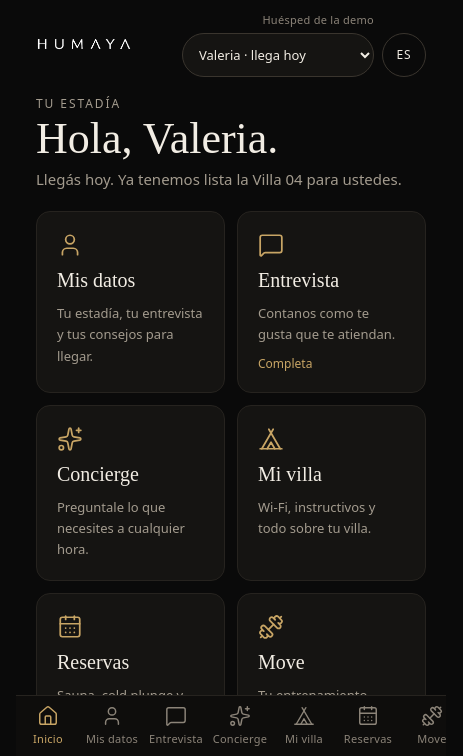
it: idioma de la app del huésped › usa la preferencia del huésped y recuerda una elección distinta para cada estadía
Expected: the heading "Hola, Valeria." is shown, left=36, top=114, right=278, bottom=163
Click the button with aria-label "Cambiar idioma a inglés" at (404, 54), box left=382, top=32, right=426, bottom=76
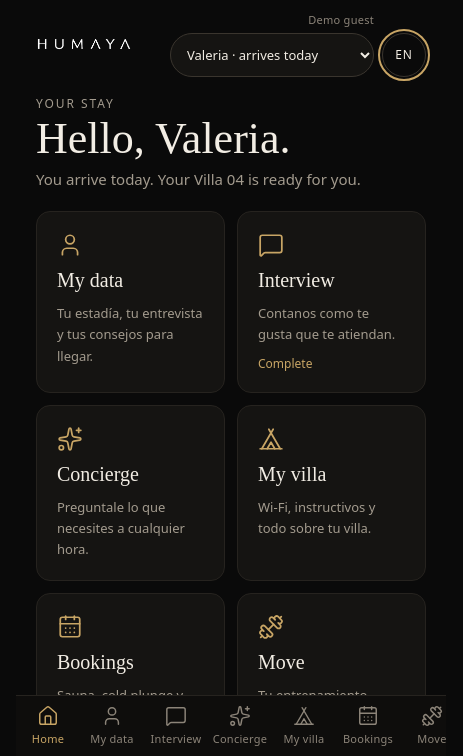
Expected: the heading "Hello, Valeria." is shown, left=36, top=114, right=290, bottom=163
Select "Hannah · arrives in 5 days" in the dropdown labelled "Demo guest" at (272, 54), box left=170, top=32, right=374, bottom=76
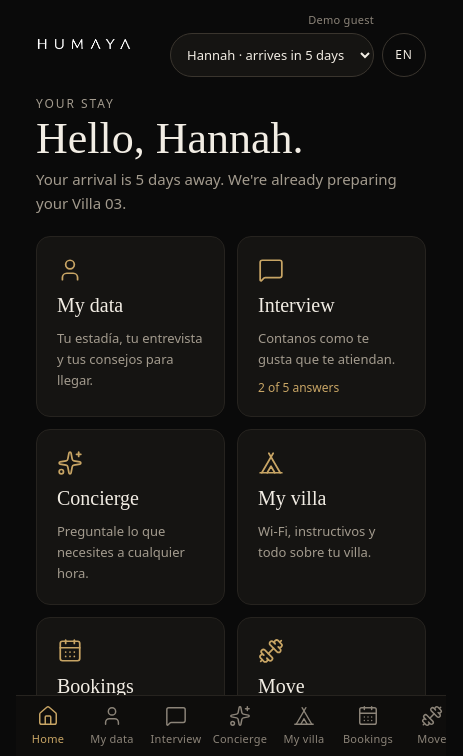
Expected: the heading "Hello, Hannah." is shown, left=36, top=114, right=304, bottom=163
Expected: the text "2 of 5 answers" is shown, left=258, top=379, right=339, bottom=396
Click the button with aria-label "Switch language to Spanish" at (404, 54), box left=382, top=32, right=426, bottom=76
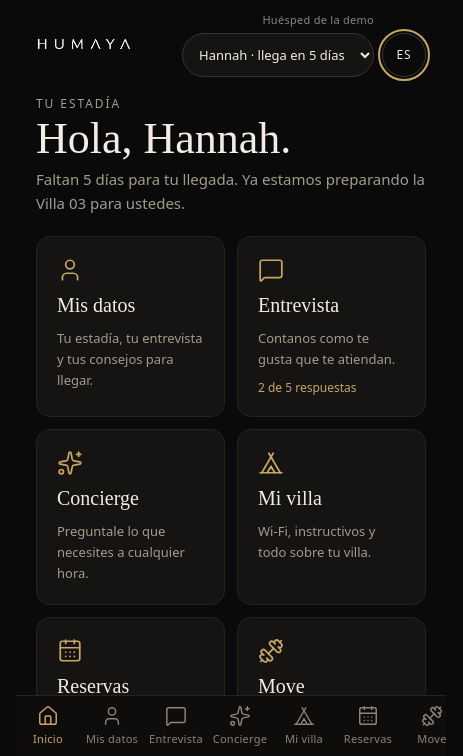
Expected: the heading "Hola, Hannah." is shown, left=36, top=114, right=291, bottom=163
Select "Valeria · llega hoy" in the dropdown labelled "Huésped de la demo" at (278, 54), box left=182, top=32, right=374, bottom=76
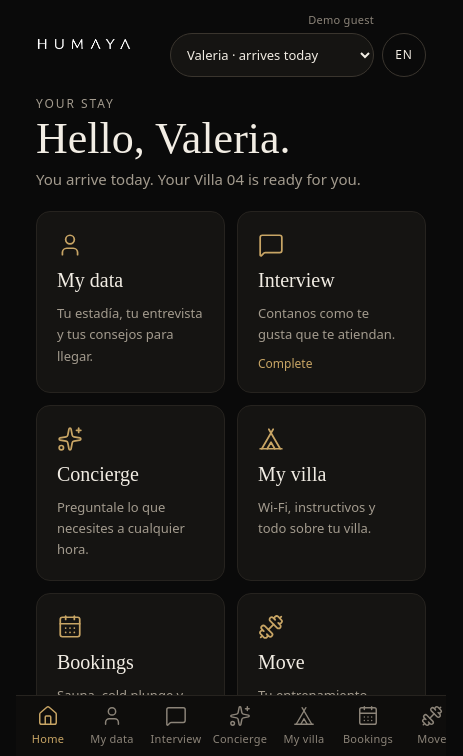
Expected: the heading "Hello, Valeria." is shown, left=36, top=114, right=290, bottom=163
